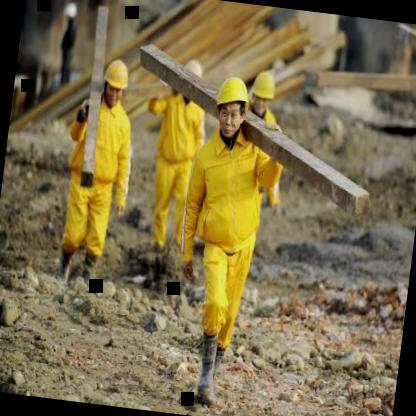helmet: (209, 70, 255, 146), (98, 53, 134, 110), (248, 69, 280, 117)
